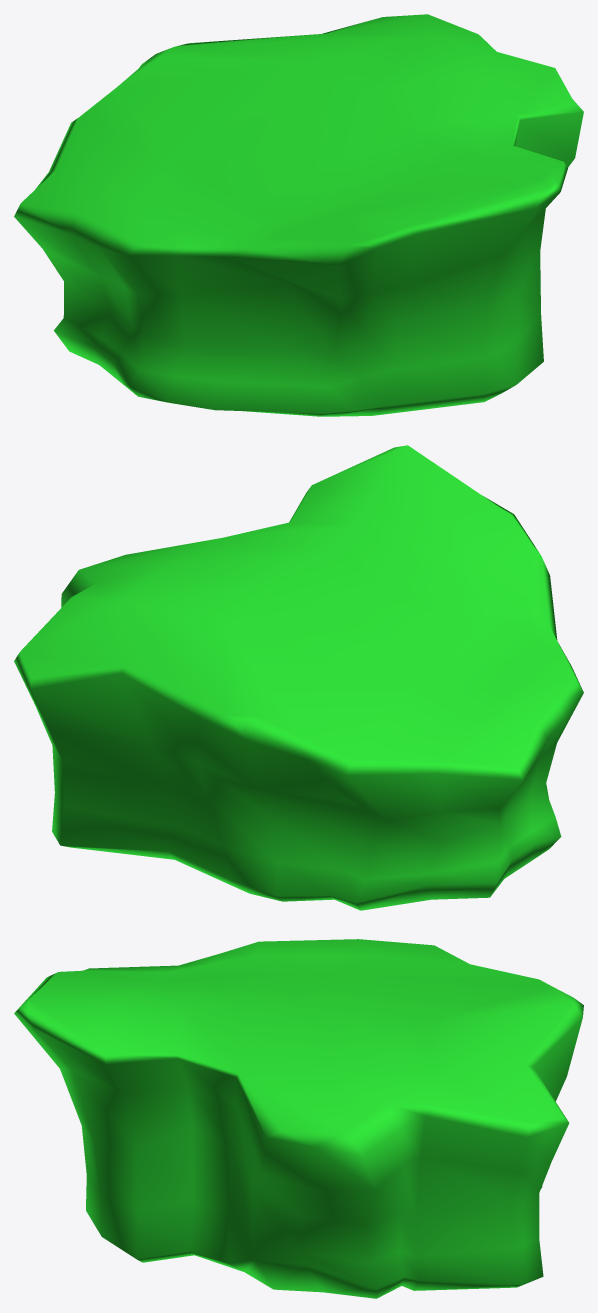
The model's file is flat_rock_01.fbx.
The picture shows the model from 3 angles, top to bottom: view 1: azimuth 30°, elevation 25°; view 2: azimuth 150°, elevation 25°; view 3: azimuth 270°, elevation 25°; orthographic projection.
Visible parts, largest first — view 1: rock_flat_01; view 2: rock_flat_01; view 3: rock_flat_01.
Boxes of the visible parts, x1=… form: rock_flat_01: x1=14, y1=14, x2=583, y2=416; rock_flat_01: x1=14, y1=445, x2=583, y2=910; rock_flat_01: x1=14, y1=939, x2=583, y2=1298.
Size of the model in its own units: 1766 by 832 by 1756.
